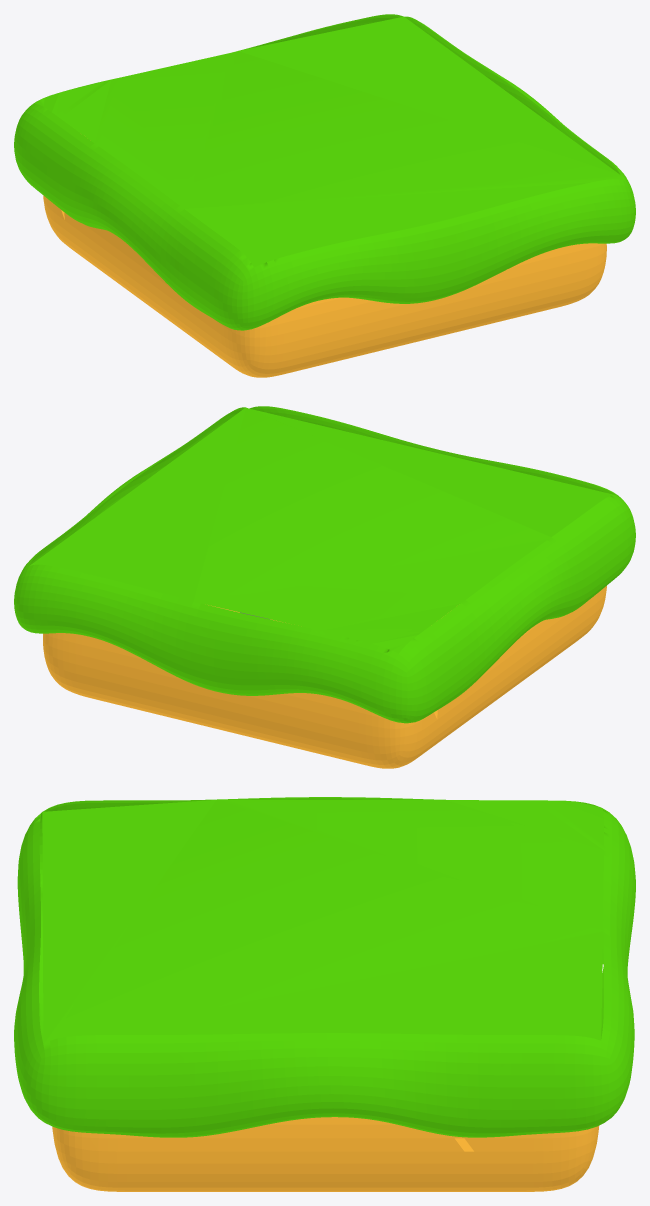
3 views of the same model, one above another, from view 1: azimuth 30°, elevation 25°; view 2: azimuth 150°, elevation 25°; view 3: azimuth 270°, elevation 25° (orthographic). The views are drawn at different scales.
Parts seen in each view (by area): view 1: Cube.001_Material_0, Cube_Material.001_0; view 2: Cube.001_Material_0, Cube_Material.001_0; view 3: Cube.001_Material_0, Cube_Material.001_0.
Boxes of the visible parts, <box> form: Cube.001_Material_0: <box>14,14,635,330</box>; Cube_Material.001_0: <box>43,195,606,377</box>; Cube.001_Material_0: <box>14,406,635,723</box>; Cube_Material.001_0: <box>43,586,606,768</box>; Cube.001_Material_0: <box>14,797,635,1137</box>; Cube_Material.001_0: <box>52,1117,598,1191</box>.
Size of the model in its own units: 7.9 by 2.53 by 7.85.
